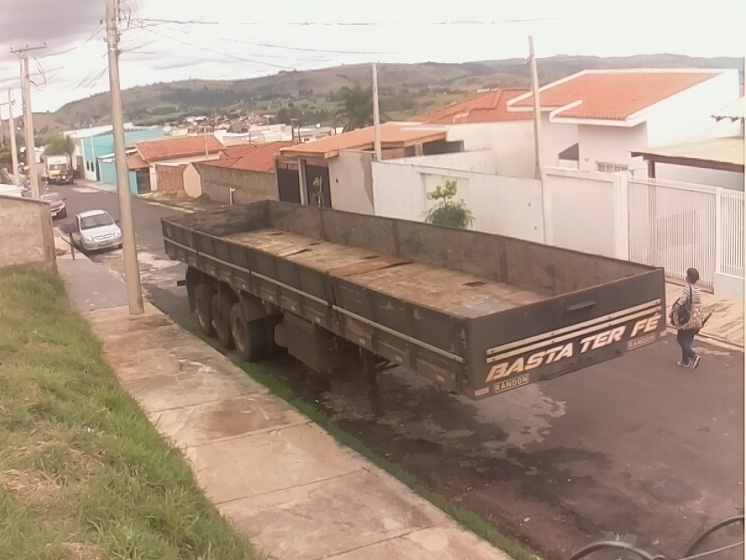person: (669, 267, 703, 372)
